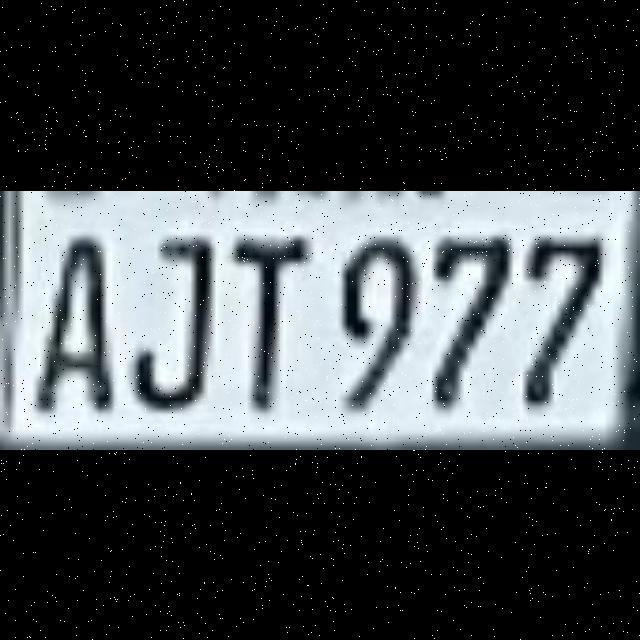7: (424, 228, 518, 416), (520, 228, 614, 416)
9: (328, 228, 422, 416)
A: (38, 228, 136, 416)
J: (134, 228, 232, 416)
T: (230, 228, 328, 416)
